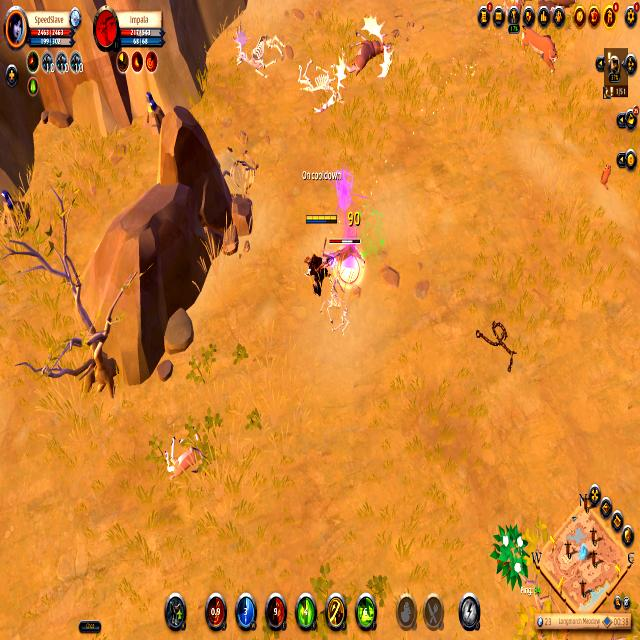hide: (485, 510, 533, 591)
mob: (344, 15, 401, 83), (160, 422, 211, 493), (340, 205, 341, 207)
ore: (322, 232, 370, 294), (516, 23, 565, 73)
player: (0, 182, 35, 244), (143, 85, 166, 136)
red: (298, 209, 341, 305)
